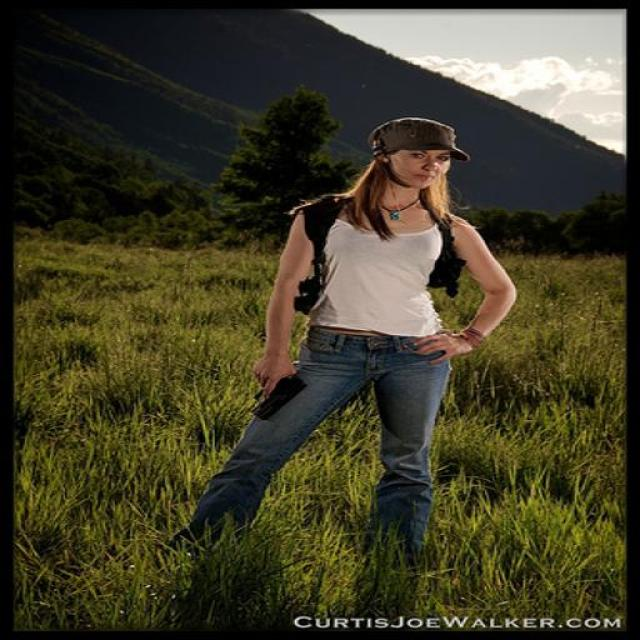pistol: (242, 366, 310, 415)
